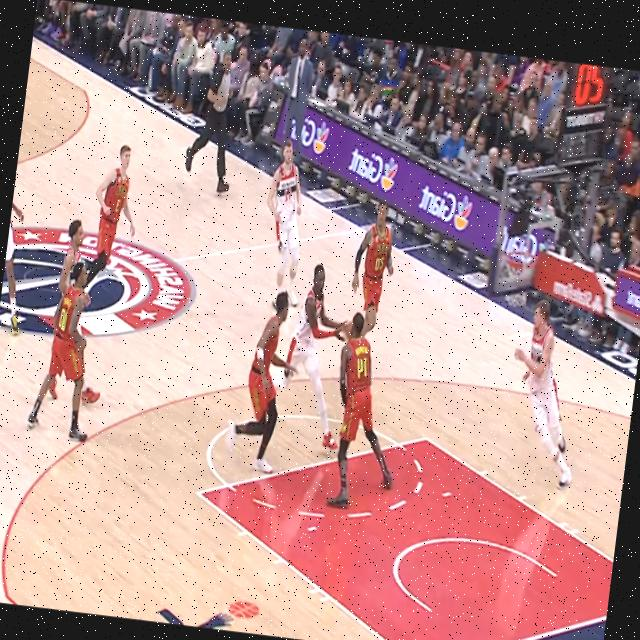no foul: (18, 128, 157, 466), (215, 249, 348, 492)
